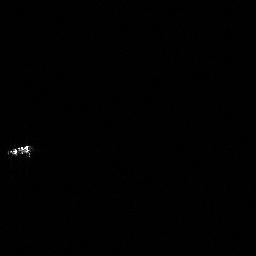ship: (4, 142, 35, 160)
